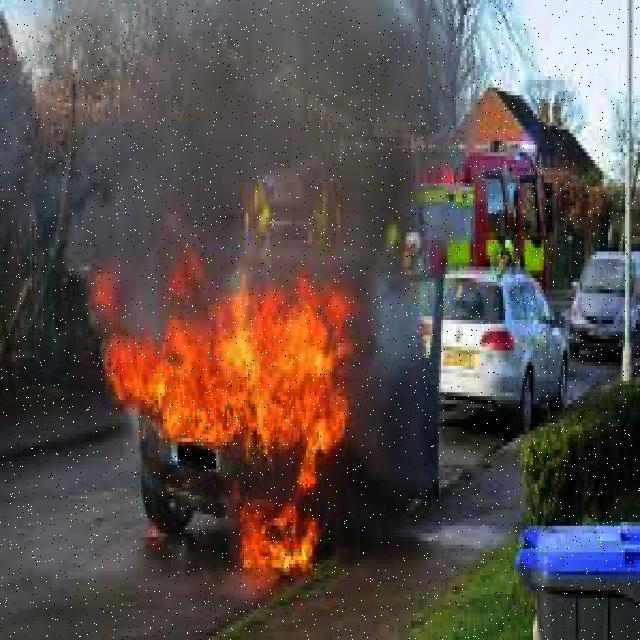fire: (114, 273, 356, 587)
smoke: (108, 13, 418, 278)
